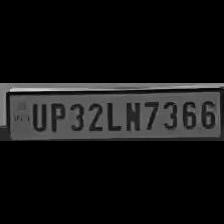2: (84, 98, 104, 132)
3: (65, 100, 85, 132), (160, 97, 178, 130)
6: (196, 97, 216, 129), (179, 97, 197, 130)
7: (141, 98, 159, 132)
L: (102, 98, 122, 132)
N: (122, 98, 140, 132)
P: (46, 100, 66, 132)
U: (26, 100, 48, 132)
